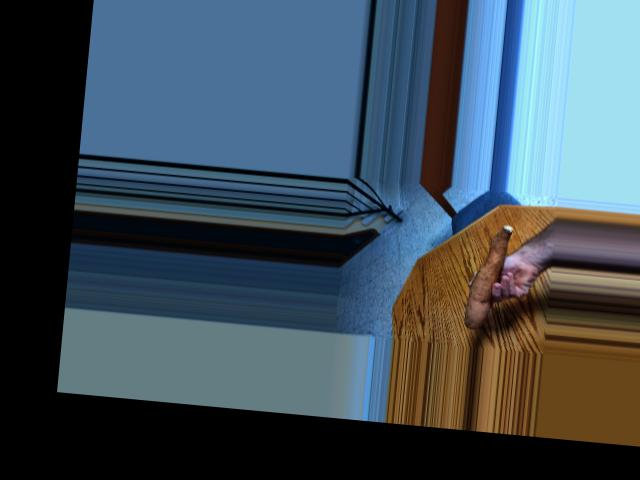sweet_potato: (457, 224, 514, 327)
